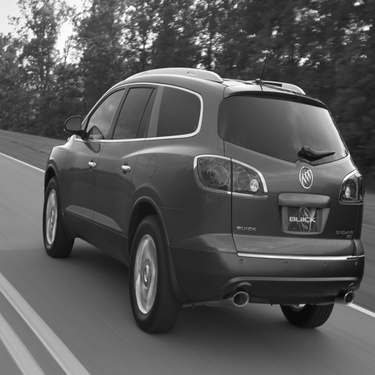car: (23, 56, 369, 338)
